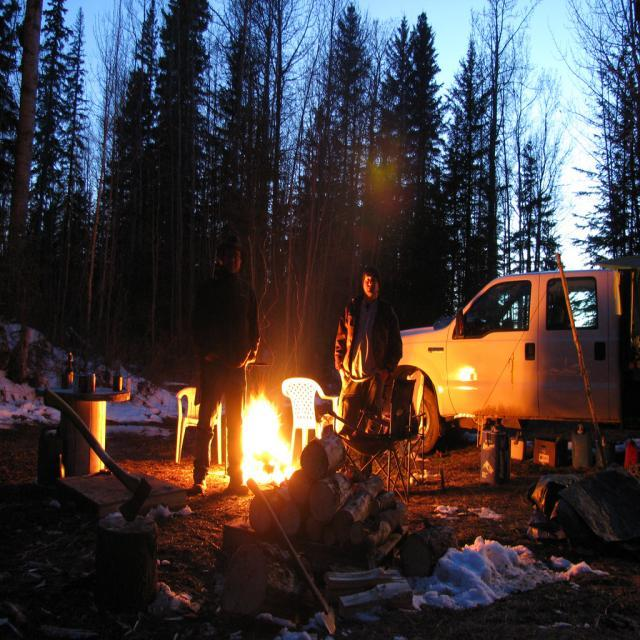Fire: (232, 388, 301, 486)
